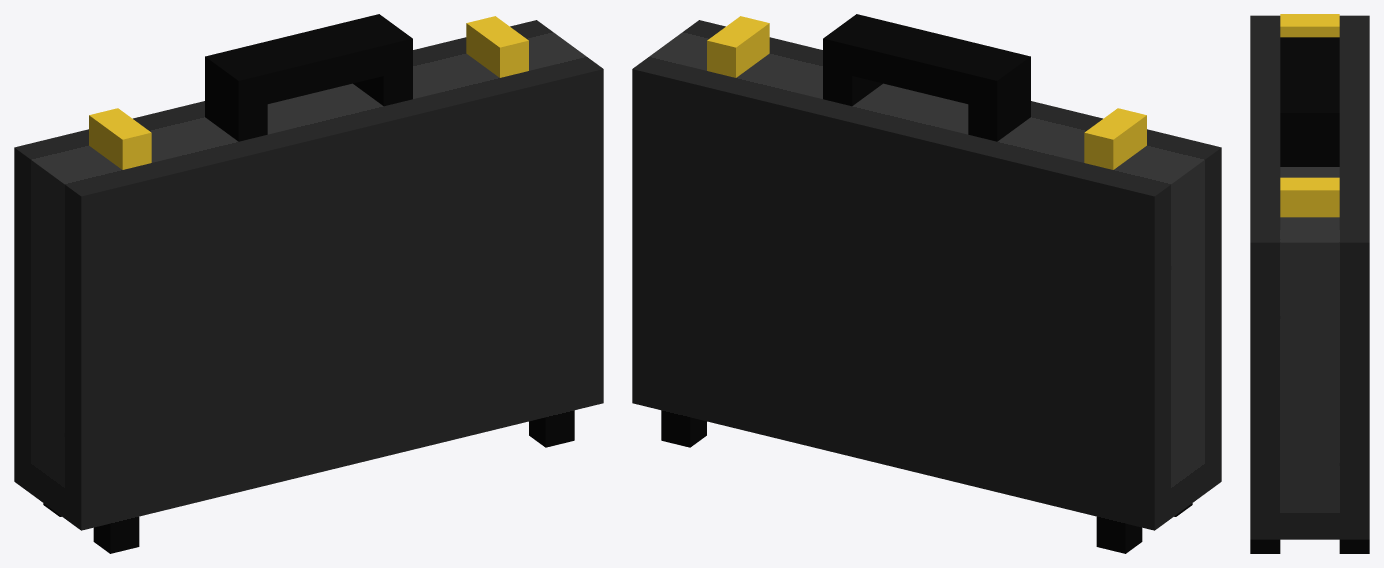
File: Inventory.dae
3 views of the same model, side by side, from view 1: azimuth 30°, elevation 25°; view 2: azimuth 150°, elevation 25°; view 3: azimuth 270°, elevation 25° (orthographic). The views are drawn at different scales.
Parts seen in each view (by area): view 1: Matrix; view 2: Matrix; view 3: Matrix.
Part boxes in pixels (x1,y1,x2,y2): Matrix: [14, 14, 603, 553]; Matrix: [632, 14, 1221, 553]; Matrix: [1250, 14, 1369, 553].
Size of the model in its own units: 18 by 14 by 4.
1 material, 1 textured.
